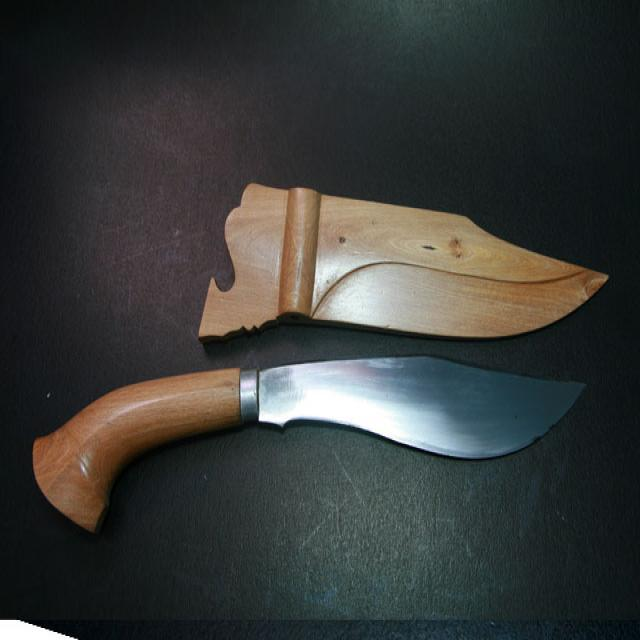Pisau: (30, 351, 590, 539)
